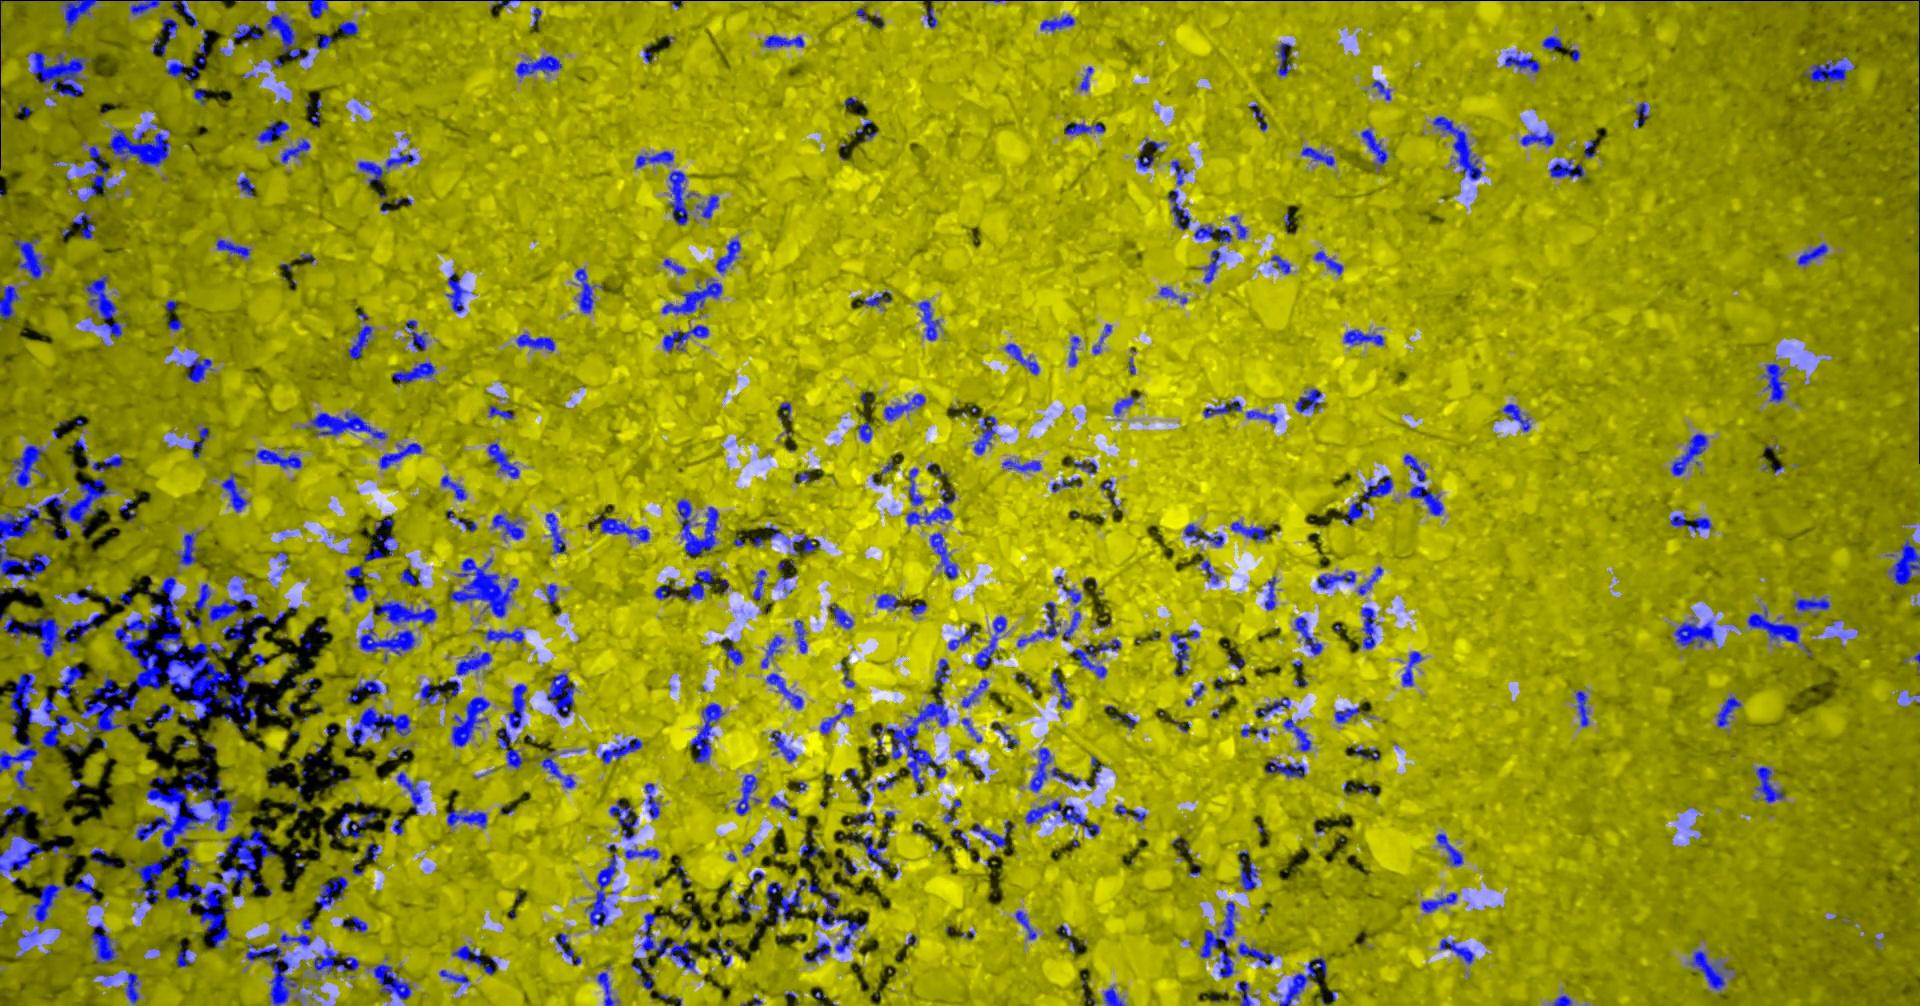ant: (809, 878, 865, 951), (22, 614, 100, 658), (245, 942, 296, 1005), (641, 912, 695, 970), (1432, 116, 1481, 179), (1023, 800, 1098, 836), (1271, 956, 1326, 1005), (350, 706, 409, 749), (585, 843, 616, 925), (1403, 453, 1443, 514), (677, 499, 717, 556), (193, 583, 254, 621), (305, 412, 386, 439), (85, 276, 121, 337), (1199, 901, 1236, 956), (662, 279, 721, 314), (1016, 601, 1060, 647), (690, 702, 723, 762), (1070, 639, 1120, 677), (451, 696, 489, 746), (0, 835, 44, 876), (764, 878, 806, 922), (357, 151, 415, 183), (1746, 607, 1798, 643), (905, 488, 955, 525), (133, 854, 169, 904), (9, 672, 36, 734), (974, 615, 1006, 667), (844, 832, 889, 869), (359, 627, 415, 655), (590, 514, 649, 541), (1670, 433, 1707, 475), (372, 600, 436, 624), (1689, 950, 1727, 989), (328, 810, 378, 840), (265, 14, 300, 57), (84, 145, 109, 202), (0, 735, 39, 772), (668, 170, 695, 224), (1888, 539, 1919, 584), (312, 944, 359, 973), (372, 963, 410, 998), (1170, 629, 1199, 674), (10, 445, 42, 486), (930, 532, 957, 579), (766, 673, 803, 709), (13, 239, 44, 279), (184, 29, 207, 85), (546, 672, 574, 716), (662, 325, 709, 351), (608, 799, 637, 840), (883, 392, 924, 420), (497, 727, 524, 768), (32, 882, 60, 923), (1803, 58, 1851, 83), (1293, 616, 1322, 655), (223, 614, 264, 641), (1672, 620, 1714, 647), (599, 737, 641, 763), (378, 442, 422, 467), (396, 771, 422, 814), (970, 821, 1013, 846), (819, 702, 853, 734), (541, 756, 575, 788), (315, 875, 347, 909), (488, 442, 518, 478), (516, 55, 561, 77), (1004, 343, 1039, 373), (1755, 766, 1784, 801), (1360, 128, 1387, 166), (1029, 747, 1051, 791), (735, 774, 759, 815), (63, 0, 98, 29), (221, 471, 246, 511), (90, 922, 116, 962), (39, 714, 69, 747), (444, 272, 467, 312), (55, 666, 83, 699), (1283, 718, 1310, 751), (152, 17, 177, 55), (392, 362, 434, 384), (574, 268, 594, 312), (1167, 189, 1190, 229), (1183, 523, 1223, 546), (684, 570, 715, 600), (347, 325, 372, 359), (973, 415, 996, 453), (63, 875, 98, 901), (917, 301, 938, 340), (257, 448, 301, 467), (507, 683, 526, 728), (455, 652, 491, 674), (715, 239, 740, 272), (1439, 939, 1473, 963), (1238, 942, 1272, 967), (545, 512, 565, 553), (1263, 757, 1304, 777), (1763, 363, 1784, 401), (1363, 475, 1392, 503), (363, 533, 392, 561), (770, 730, 796, 761), (1436, 833, 1462, 865), (555, 932, 580, 964), (347, 680, 381, 702), (1502, 403, 1530, 431), (961, 678, 988, 708), (1050, 767, 1091, 786), (1238, 850, 1257, 890), (491, 514, 523, 539), (759, 635, 783, 667), (1051, 671, 1072, 708), (1313, 250, 1343, 274), (1716, 696, 1740, 727), (1192, 224, 1230, 243), (1503, 52, 1539, 72), (446, 809, 486, 827), (1421, 892, 1457, 912), (1401, 652, 1422, 685), (170, 0, 197, 27), (279, 138, 309, 163), (1230, 521, 1267, 540), (1316, 570, 1355, 588), (1797, 243, 1827, 265), (1255, 696, 1289, 716), (596, 970, 616, 1005), (1669, 514, 1710, 531), (1361, 607, 1378, 649), (257, 121, 288, 142), (405, 319, 427, 351), (516, 333, 554, 351), (185, 356, 211, 382), (439, 475, 466, 500), (705, 940, 730, 967), (1357, 567, 1382, 594), (717, 636, 742, 664), (177, 531, 197, 564), (1300, 146, 1335, 165), (1549, 158, 1583, 177), (215, 239, 249, 258), (0, 285, 19, 319), (1343, 329, 1383, 345), (1015, 909, 1036, 939), (635, 150, 673, 166), (1203, 400, 1241, 417), (452, 945, 483, 965), (1295, 387, 1321, 412), (232, 23, 262, 43), (1039, 14, 1074, 30), (829, 603, 853, 627), (1092, 324, 1111, 354), (1112, 394, 1139, 415), (72, 210, 93, 238), (484, 627, 524, 641), (631, 962, 651, 989), (190, 426, 208, 457), (1062, 610, 1079, 641), (695, 194, 717, 218), (1340, 499, 1363, 523), (1203, 249, 1219, 282), (644, 782, 659, 818), (803, 941, 829, 962), (761, 34, 803, 47), (908, 467, 922, 506), (0, 614, 22, 638), (1575, 690, 1589, 727), (1520, 131, 1553, 146), (861, 290, 891, 306), (91, 455, 124, 470), (1001, 459, 1040, 471), (1159, 286, 1187, 304), (1793, 597, 1829, 611), (947, 629, 971, 649), (961, 718, 982, 742), (792, 619, 806, 653), (1170, 159, 1187, 185), (792, 535, 819, 553), (994, 727, 1016, 748), (130, 0, 160, 15), (420, 683, 443, 704), (1277, 42, 1291, 75), (124, 972, 138, 1005), (1250, 103, 1266, 130), (1217, 950, 1233, 977), (1228, 215, 1246, 239), (1050, 478, 1081, 492), (752, 569, 766, 600), (935, 658, 949, 688), (1244, 410, 1277, 423), (3, 804, 28, 821), (1067, 459, 1096, 473), (439, 969, 469, 983), (347, 583, 370, 601), (441, 680, 458, 702), (15, 768, 33, 791), (1064, 123, 1103, 133), (90, 848, 114, 865), (1371, 80, 1390, 100), (400, 567, 420, 586), (876, 593, 902, 608), (342, 916, 367, 931), (279, 934, 310, 946), (1103, 986, 1124, 1005), (1201, 560, 1218, 583), (1263, 575, 1275, 608), (310, 98, 323, 127), (1111, 713, 1135, 728), (155, 702, 174, 721), (307, 0, 328, 18), (1270, 255, 1290, 273), (623, 848, 659, 859), (663, 258, 684, 274), (1636, 102, 1650, 127), (841, 662, 855, 687), (1335, 708, 1360, 721), (750, 870, 764, 895), (674, 864, 690, 887), (236, 177, 254, 196), (837, 857, 856, 875), (654, 586, 678, 600), (1237, 981, 1251, 1005), (165, 61, 185, 77), (118, 500, 135, 521), (1068, 337, 1079, 366), (1079, 66, 1092, 91), (488, 405, 513, 418), (1062, 586, 1079, 603), (175, 948, 192, 967), (1542, 36, 1562, 51), (1354, 747, 1378, 760), (1091, 756, 1102, 782), (852, 810, 874, 824), (800, 841, 818, 857), (857, 422, 871, 442), (737, 894, 750, 915), (1137, 154, 1153, 170), (364, 842, 378, 861), (345, 565, 368, 577), (193, 88, 208, 104), (877, 775, 894, 790), (483, 956, 497, 974), (338, 22, 357, 34), (457, 518, 476, 531), (770, 795, 789, 808), (545, 583, 556, 603), (43, 696, 53, 719), (1055, 923, 1070, 939), (315, 34, 331, 48), (778, 401, 790, 420), (118, 588, 131, 605), (1583, 140, 1595, 158), (926, 8, 936, 27), (1552, 995, 1571, 1005), (375, 518, 392, 528), (168, 318, 182, 330), (251, 653, 265, 666), (795, 470, 810, 481), (391, 746, 406, 757), (909, 603, 926, 614), (392, 819, 403, 835), (1131, 810, 1145, 821)
